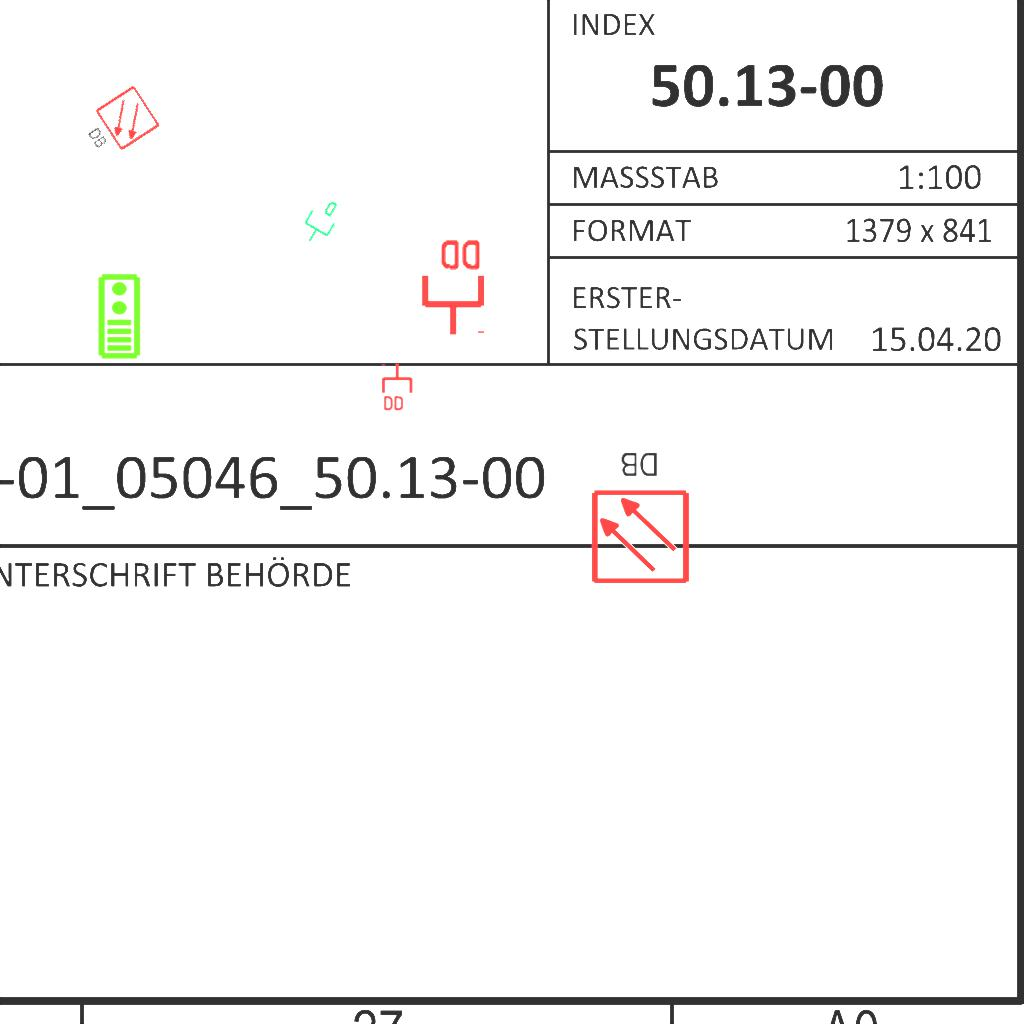DB_Melder_in_Doppelboden_mit_Revisionsoeffnung_mind_40_x_40_cm: (582, 442, 696, 591), (72, 79, 167, 169)
Datenanschluss_einfach: (292, 190, 348, 252)
Datenanschluss_zweifach: (417, 235, 486, 338), (381, 362, 415, 413)
Gegensprechanlage_mit_Video: (95, 272, 142, 360)
